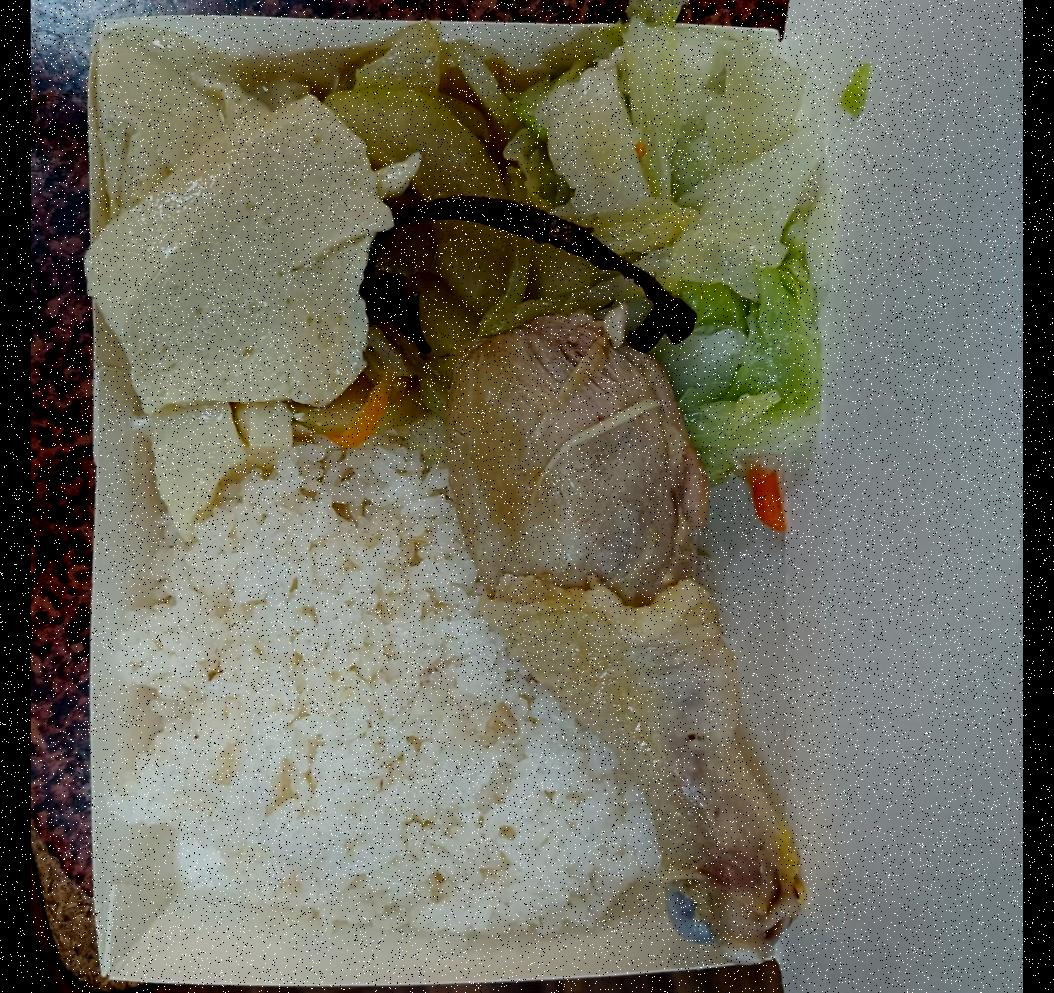big grilled chicken leg: (63, 0, 839, 993)
big herbal chicken leg: (130, 445, 694, 941)
braised fish fillet: (535, 27, 821, 461), (108, 37, 381, 432), (318, 39, 565, 440)
braised pork: (442, 310, 821, 980)
